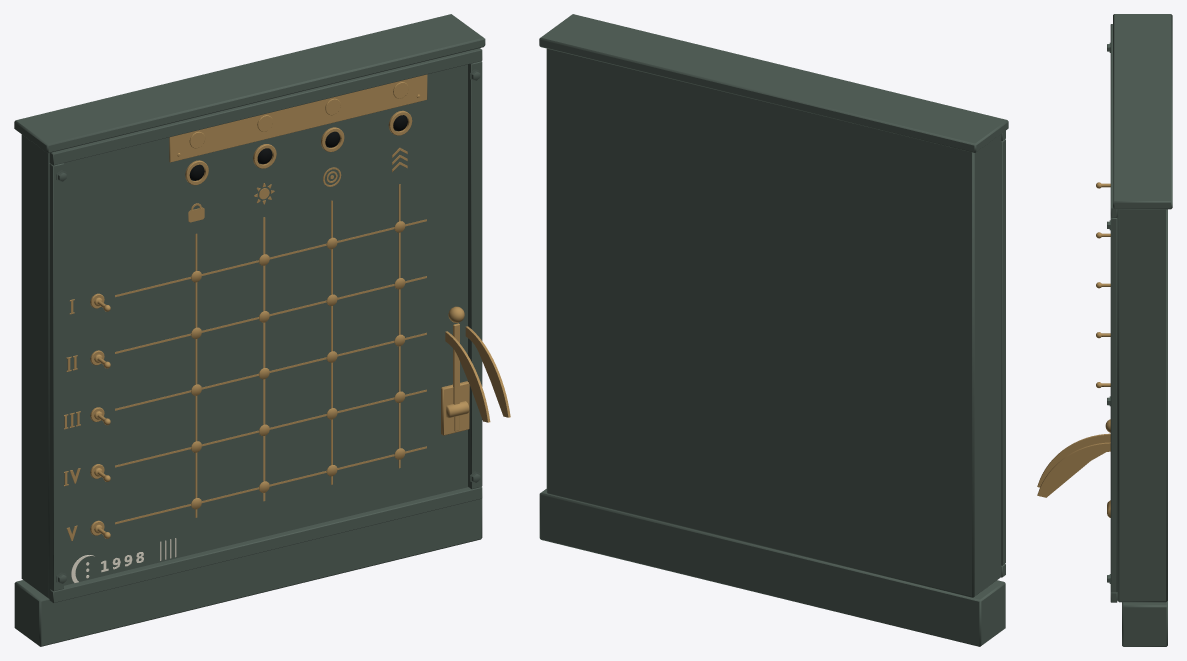
Rendered from panel0.glb.
3 renders of one model, left to right at view 1: azimuth 30°, elevation 25°; view 2: azimuth 150°, elevation 25°; view 3: azimuth 270°, elevation 25°, orthographic. The views are drawn at different scales.
Visible parts, largest first — view 1: panel_body, panel_brass, IA_main_lever; view 2: panel_body; view 3: panel_body, panel_brass.
Part boxes in pixels (x1,y1,x2,y2): panel_body: (14,14,485,646); panel_brass: (64,74,510,540); IA_main_lever: (446,306,469,431); panel_body: (539,14,1008,646); panel_body: (1107,14,1172,646); panel_brass: (1037,433,1110,497).
Bounding box in the file's own units: 1.96 × 2.14 × 0.5884.
